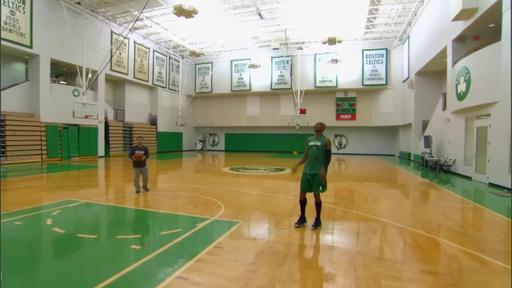ball: (134, 151, 144, 159)
human: (291, 122, 331, 230), (128, 136, 150, 194)
